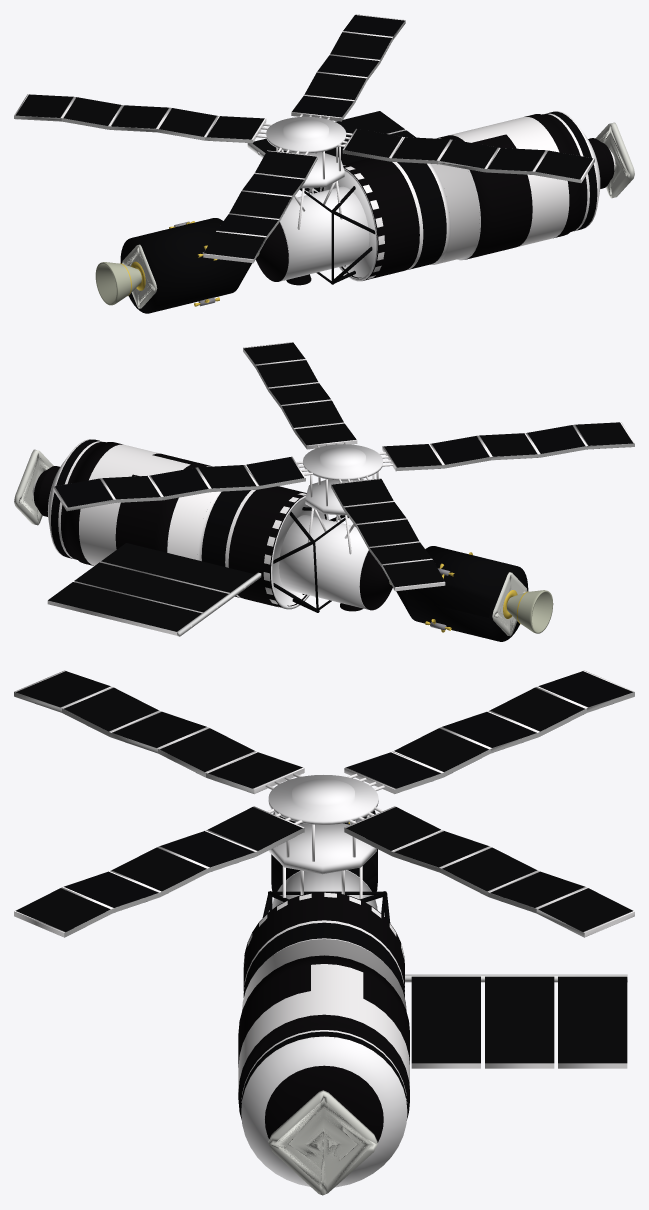
Rendered from skylab.glb.
3 renders of one model, top to bottom at view 1: azimuth 30°, elevation 25°; view 2: azimuth 150°, elevation 25°; view 3: azimuth 270°, elevation 25°, orthographic. The views are drawn at different scales.
Visible parts, largest first — view 1: polySurfac; view 2: polySurfac; view 3: polySurfac.
Boxes of the visible parts, x1=… form: polySurfac: x1=14, y1=14, x2=634, y2=313; polySurfac: x1=14, y1=342, x2=634, y2=641; polySurfac: x1=14, y1=670, x2=634, y2=1195.
Size of the model in its own units: 38.74 by 11.78 by 29.85.
Materials: 4 (4 with a texture image).
